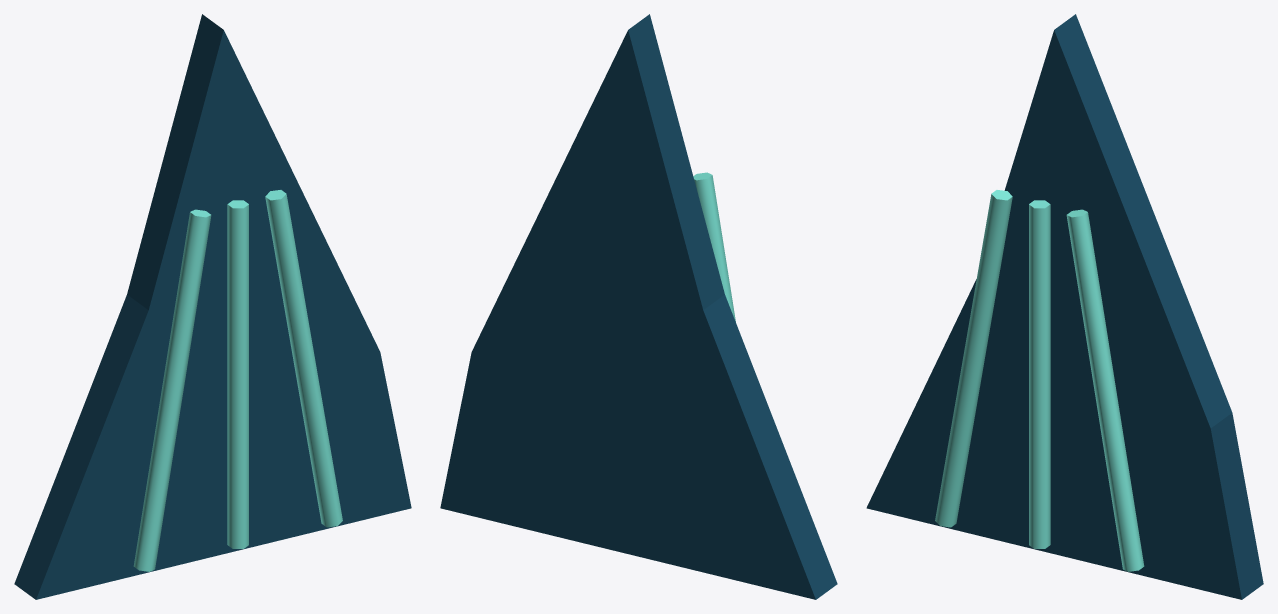
File: leviathan_fin.fbx
3 views of the same model, side by side, from view 1: azimuth 30°, elevation 25°; view 2: azimuth 150°, elevation 25°; view 3: azimuth 330°, elevation 25° (orthographic).
Parts seen in each view (by area): view 1: leviathan_fin; view 2: leviathan_fin; view 3: leviathan_fin.
Boxes of the visible parts, <box> form: leviathan_fin: <box>14,14,411,599</box>; leviathan_fin: <box>440,14,837,599</box>; leviathan_fin: <box>866,14,1263,599</box>.
Size of the model in its own units: 0.6 by 0.8 by 0.115.
